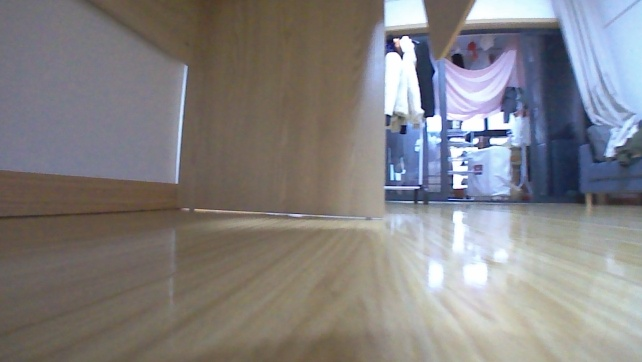sofa1: (571, 121, 641, 205)
